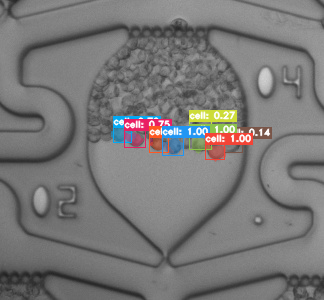AptNum: (248, 60, 310, 105)
Marker: (243, 207, 273, 234)
StNum: (23, 179, 85, 229)
Trap: (145, 257, 189, 299)
